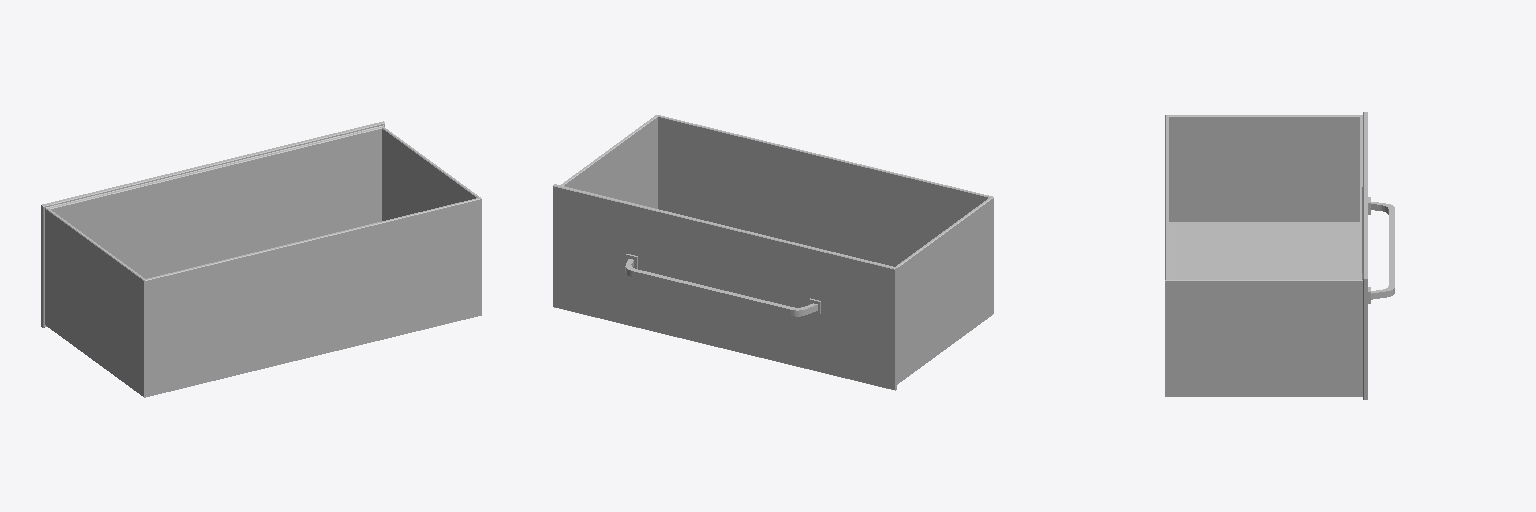
Rendered from SM_FileCabinetWideDrawer_001.obj.
3 renders of one model, left to right at view 1: azimuth 30°, elevation 25°; view 2: azimuth 150°, elevation 25°; view 3: azimuth 270°, elevation 25°, orthographic.
Parts seen in each view (by area): view 1: polySurface23; view 2: polySurface23; view 3: polySurface23.
Boxes of the visible parts, x1,y1,x2,y2 form: polySurface23: [41, 121, 481, 397]; polySurface23: [553, 115, 993, 390]; polySurface23: [1165, 112, 1394, 399].
Size of the model in its own units: 131 by 44.54 by 76.22.